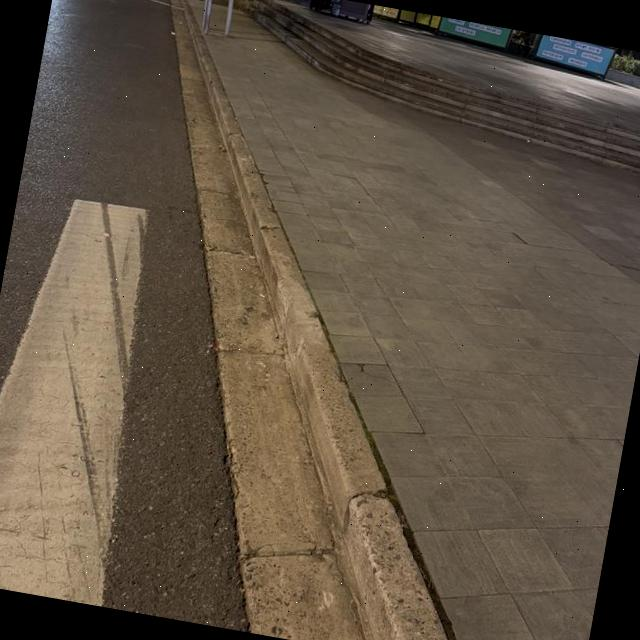curb: (184, 0, 447, 640)
